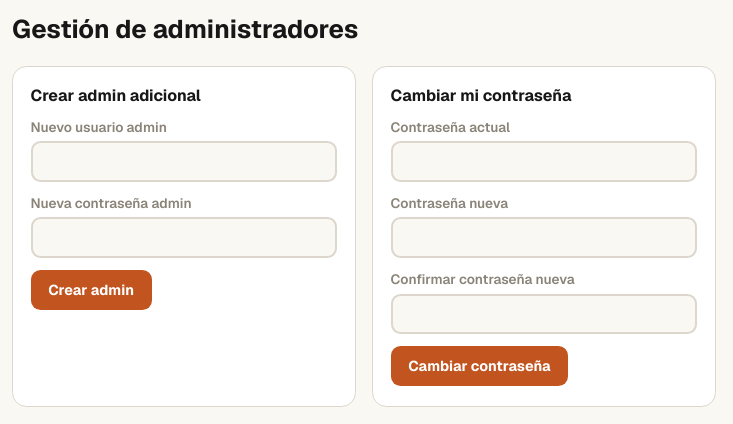
Scenario: AdminManagement (T54, RF-6, RF-10) › creates an additional admin and shows the confirmation
Type "nuevo_admin" into the field labelled "Nuevo usuario admin".
click(184, 162); type("nuevo_admin")  # box [31,141,337,182]
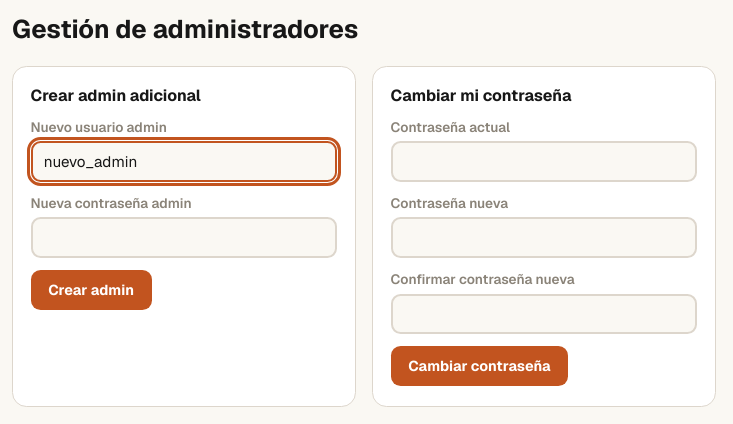
Type "OtraSegura9" into the password field labelled "Nueva contraseña admin".
click(184, 238); type("OtraSegura9")  # box [31,217,337,258]
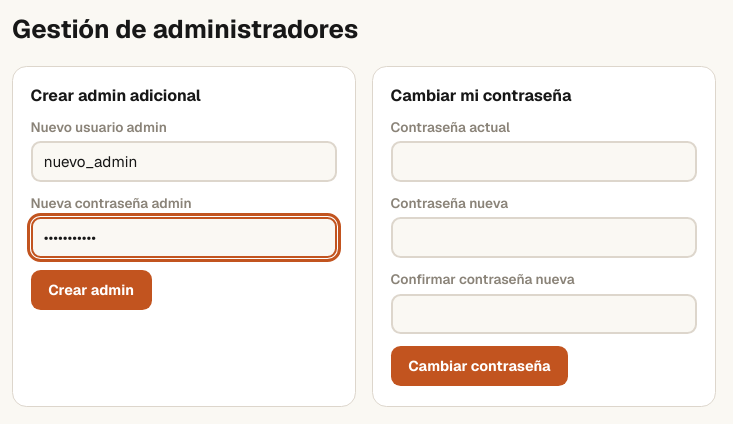
Click the button "Crear admin".
click(91, 290)  # box [31,270,152,310]
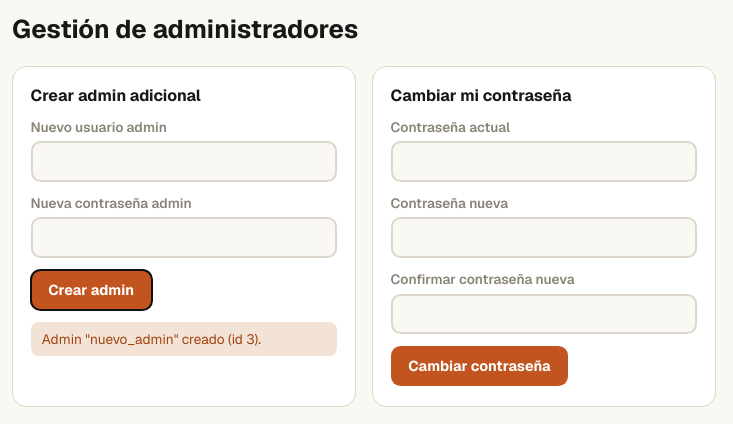
Expected: the text "Admin \"nuevo_admin\" creado (id 3)." is shown, [31,322,337,356]
